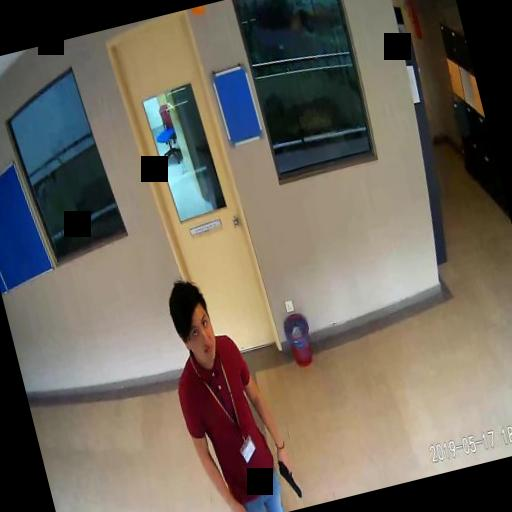Handgun: (272, 446, 300, 501)
